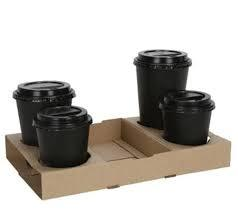Paper cups: (132, 42, 190, 123), (8, 72, 73, 122), (41, 106, 93, 167), (170, 86, 218, 144)
